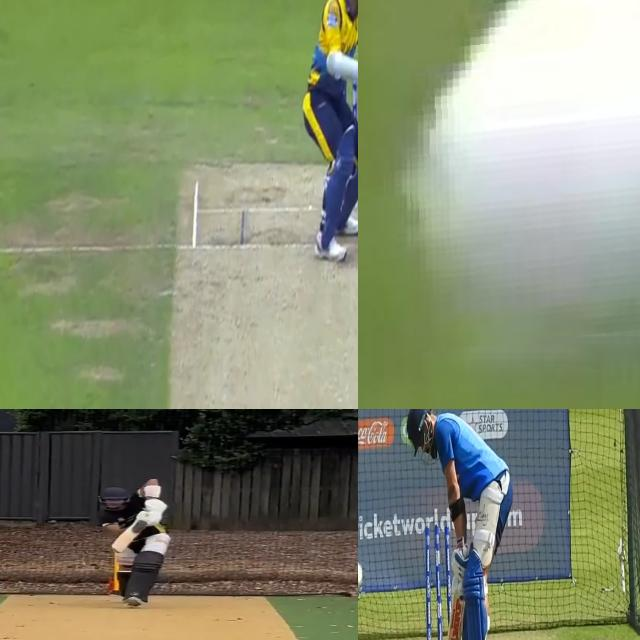Cricket ball: (404, 0, 640, 353)
Stumps: (358, 560, 365, 596)
